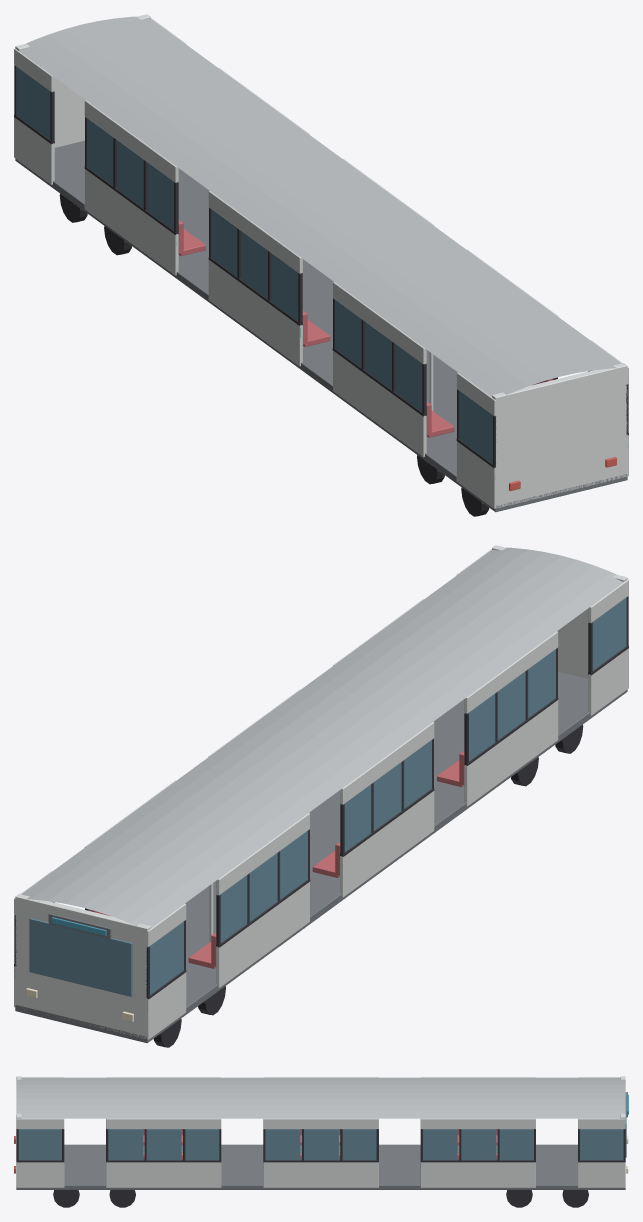
Rendered from Metro.fbx.
3 renders of one model, top to bottom at view 1: azimuth 30°, elevation 25°; view 2: azimuth 150°, elevation 25°; view 3: azimuth 270°, elevation 25°, orthographic. The views are drawn at different scales.
Parts seen in each view (by area): view 1: Metro; view 2: Metro; view 3: Metro.
Part boxes in pixels (<box>): Metro: <box>14,14,628,516</box>; Metro: <box>14,545,628,1047</box>; Metro: <box>14,1076,628,1207</box>.
Size of the model in its own units: 316 by 348 by 1968.
